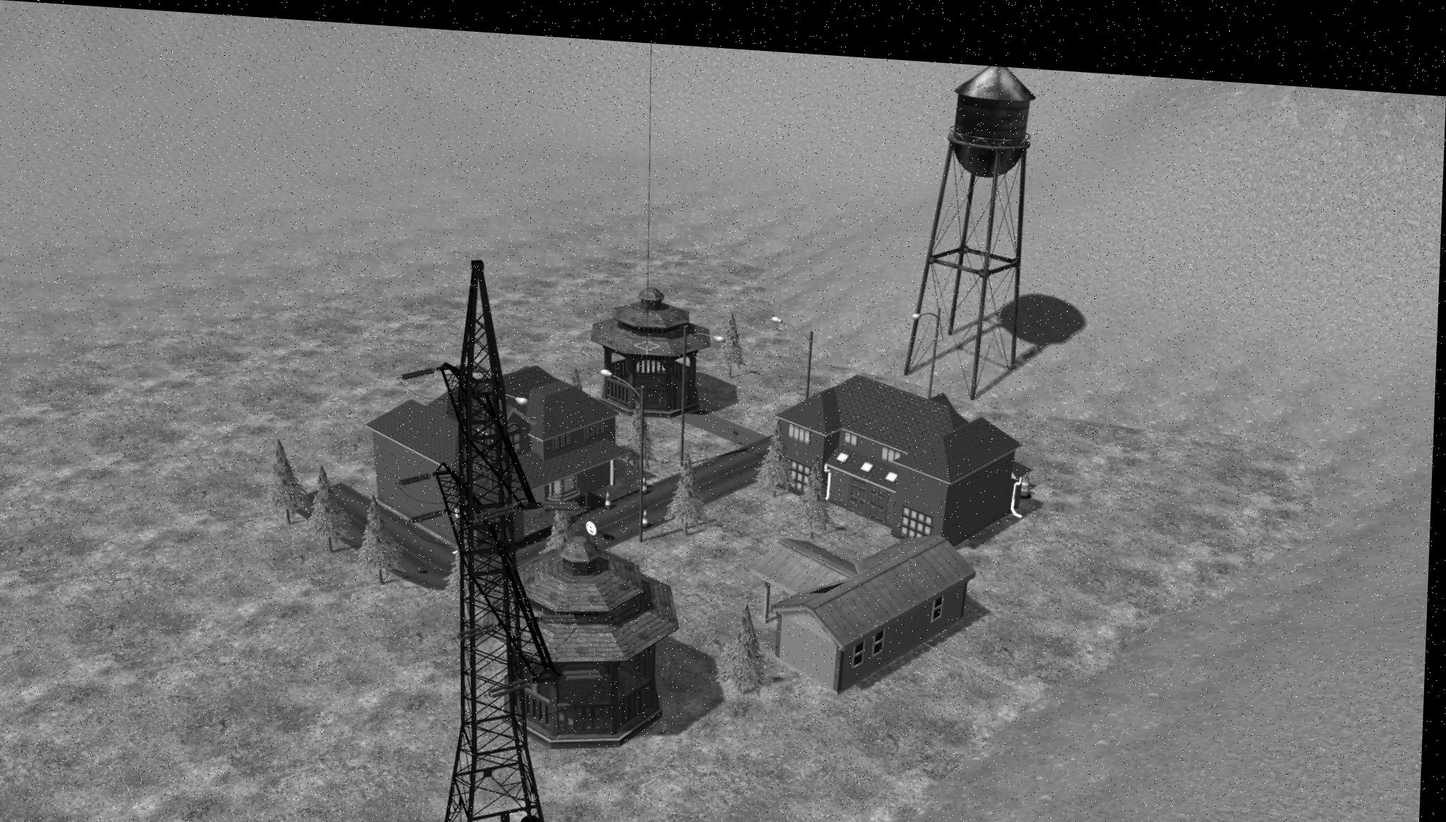tower: (410, 253, 579, 822)
